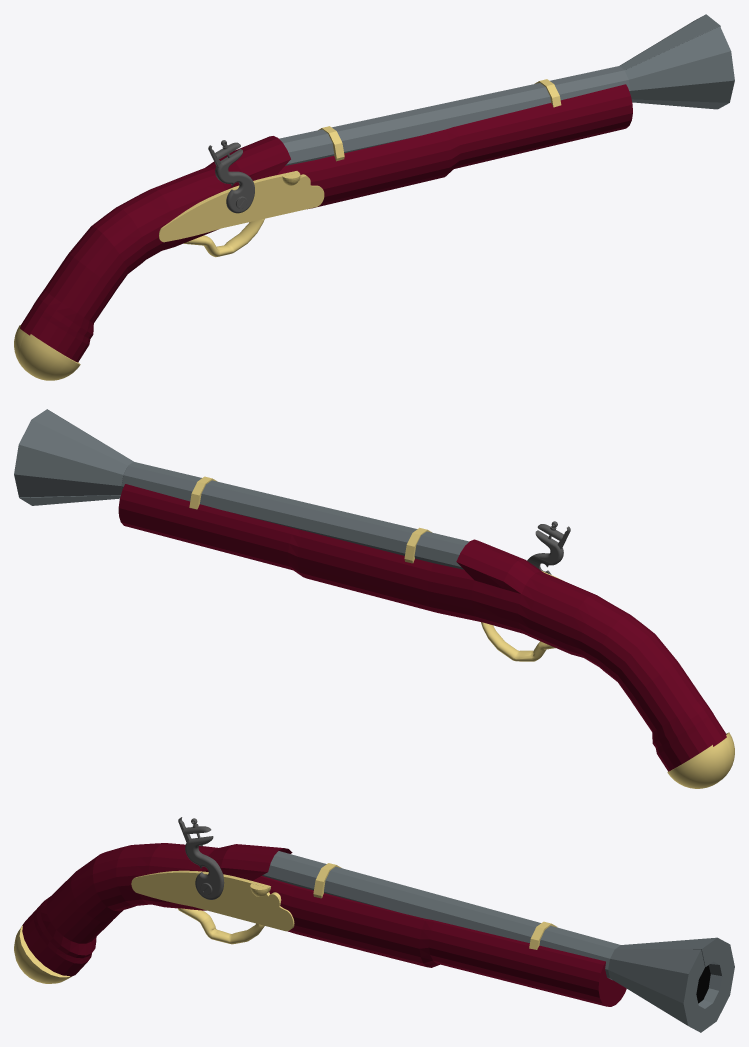
Rendered from blunderbuss.fbx.
3 renders of one model, top to bottom at view 1: azimuth 30°, elevation 25°; view 2: azimuth 150°, elevation 25°; view 3: azimuth 330°, elevation 25°, orthographic.
Visible parts, largest first — view 1: blunderbuss:pCylinder1, blunderbuss:pPipe1, blunderbuss:Part20, blunderbuss:pSphere3, blunderbuss:part1, blunderbuss:pTriggerGuard; view 2: blunderbuss:pCylinder1, blunderbuss:pPipe1, blunderbuss:pSphere1, blunderbuss:part1, blunderbuss:pTriggerGuard; view 3: blunderbuss:pCylinder1, blunderbuss:pPipe1, blunderbuss:Part20, blunderbuss:part1, blunderbuss:pSphere3, blunderbuss:pTriggerGuard, blunderbuss:pCylinder5.
Part boxes in pixels (box(x1,y1,x2,y2)): blunderbuss:pCylinder1: box(20, 84, 632, 362); blunderbuss:pPipe1: box(279, 14, 734, 165); blunderbuss:Part20: box(159, 171, 324, 242); blunderbuss:pSphere3: box(20, 333, 80, 380); blunderbuss:part1: box(208, 140, 254, 213); blunderbuss:pTriggerGuard: box(184, 218, 264, 257); blunderbuss:pCylinder1: box(118, 484, 726, 771); blunderbuss:pPipe1: box(14, 409, 469, 569); blunderbuss:pSphere1: box(667, 740, 729, 788); blunderbuss:part1: box(527, 521, 570, 574); blunderbuss:pTriggerGuard: box(481, 622, 555, 661); blunderbuss:pCylinder1: box(22, 843, 626, 1006); blunderbuss:pPipe1: box(262, 851, 734, 1032); blunderbuss:Part20: box(131, 870, 294, 931); blunderbuss:part1: box(178, 817, 224, 899); blunderbuss:pSphere3: box(14, 925, 71, 983); blunderbuss:pTriggerGuard: box(178, 908, 264, 944); blunderbuss:pCylinder5: box(313, 863, 341, 898).
Size of the model in its own units: 8.69 by 2.53 by 1.06.
